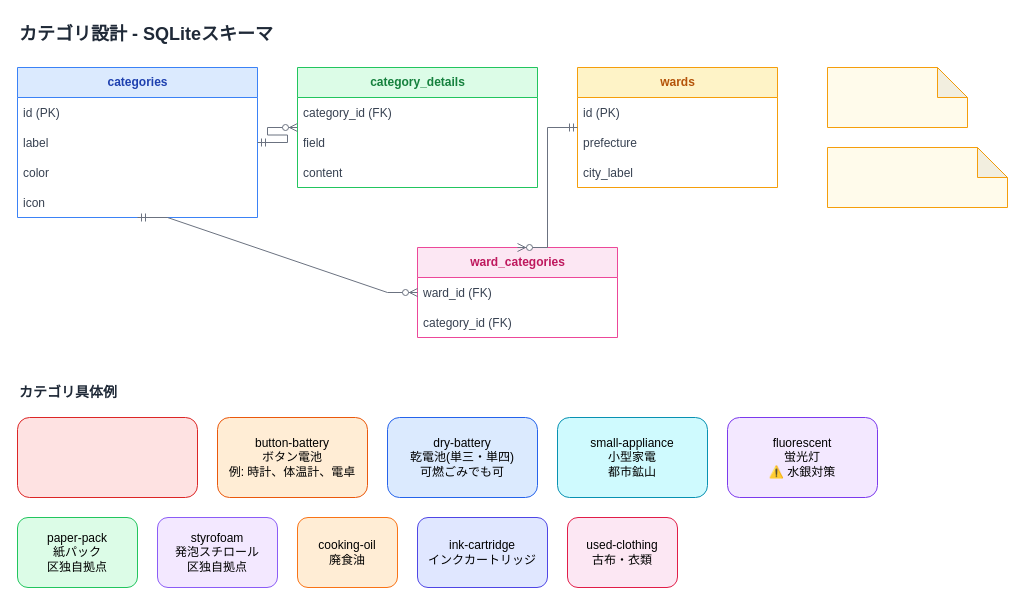
The diagram is 1025 pixels wide and 605 high, and some of its shapes have lost their labels. Here are the shapes that lost their labels. From the top down, the centre of each, then its label:
[897,97]: ⚠️ = 注意事項あり (category_detailsに記載)
[917,177]: 区独自 = 全区共通ではない (ward_categoriesで管理)
[107,457]: rechargeable-battery 小型充電式電池 ⚠️ 端子絶縁必須 例: リチウムイオン、モバイルバッテリー
